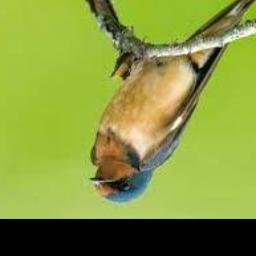Swallow: (90, 0, 256, 204)
